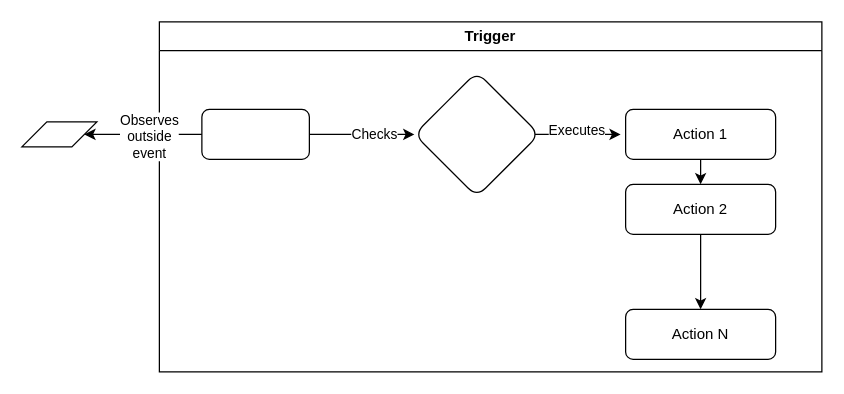
The diagram is 844 pixels wide and 394 high, and some of its shapes have lost their labels. The shapes that lost their labels are listed below. From the top down, each one's centre as x and y in pixels, then its label:
At (255,133): "Event".
At (476,134): "Conditions".
